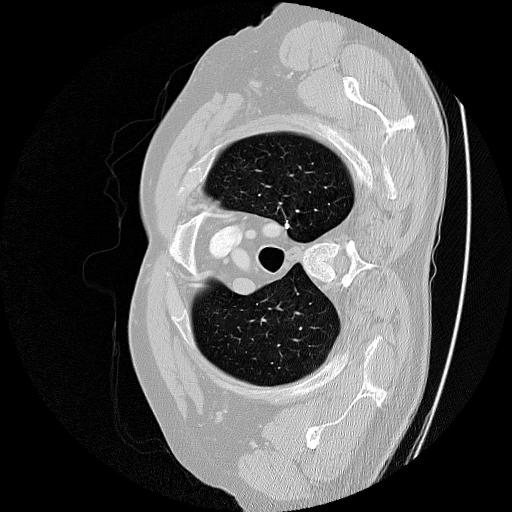nodule: (281, 221, 294, 234)
